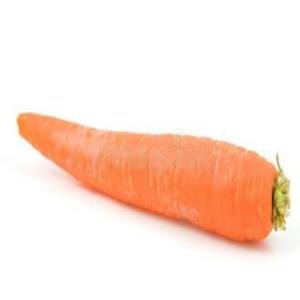carrot: (14, 104, 292, 255)
